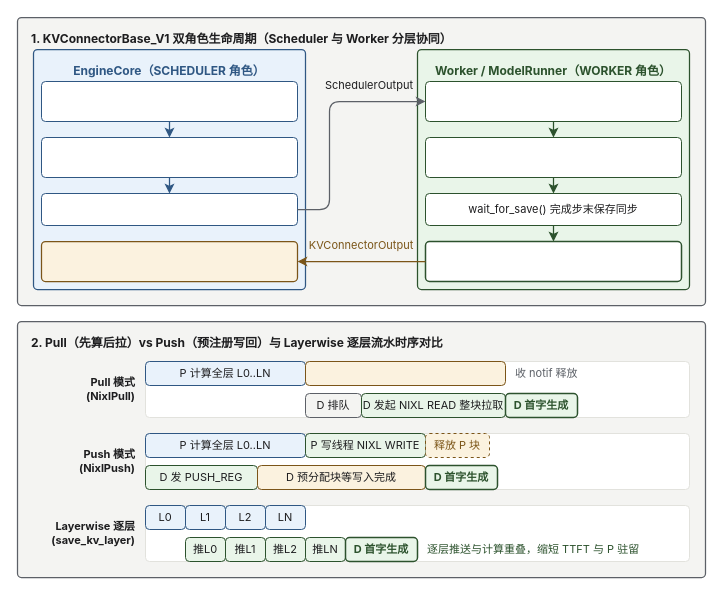
This 724x596 diagram has some shape labels left out. Here are the shapes that lost their labels. From the top down, the centre of each, then its label:
point (169, 101): get_num_new_matched_tokens() D 端探测远端命中，置 load_kv_async
point (553, 101): start_load_kv() 绑定调度元数据 发起异步 RDMA READ 或唤醒推送线程
point (169, 157): update_state_after_alloc() 登记目标块，置 WAITING_FOR_REMOTE_KVS
point (553, 157): wait_for_layer_load → Attn → save_kv_layer 在 Attention 前后挂接逐层同步与保存
point (169, 209): build_connector_meta() 打包元信息
point (169, 261): request_finished() 返 delay_free=True P 端持块直至收到 finished_sending
point (553, 261): get_transfer_results() 回传状态集合 finished_sending / recving / failed_recving
point (405, 373): P 租约持有（delay_free 锁定显存）
